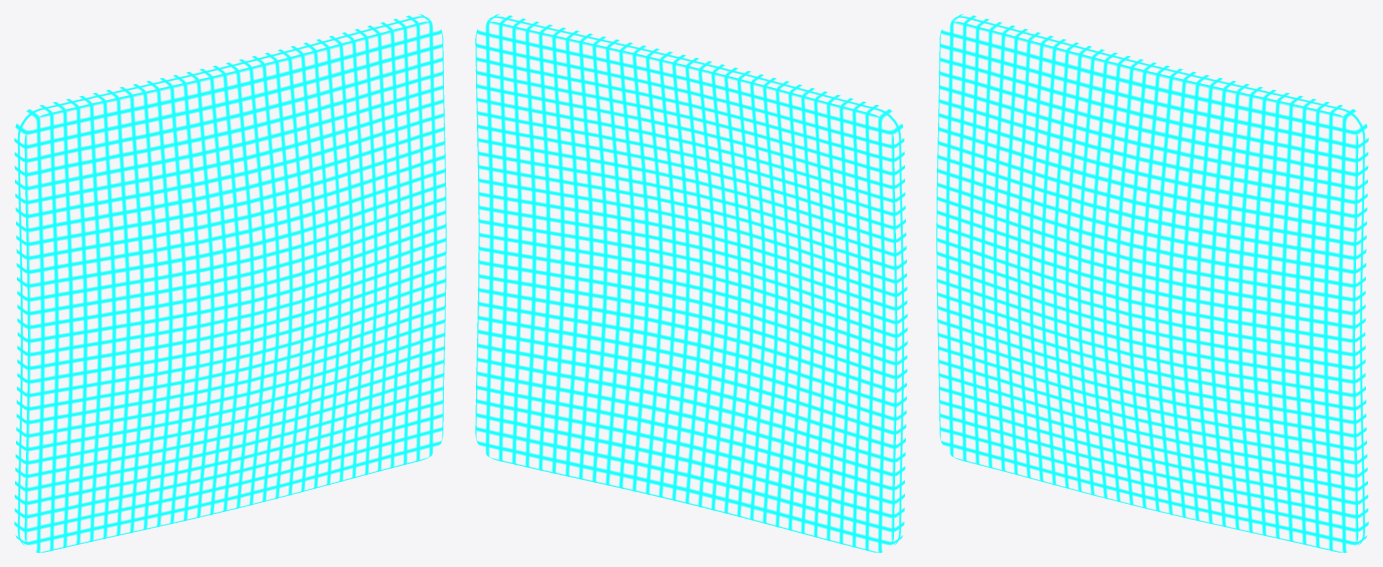
The model's file is shield.glb.
3 views of the same model, side by side, from view 1: azimuth 30°, elevation 25°; view 2: azimuth 150°, elevation 25°; view 3: azimuth 330°, elevation 25° (orthographic).
Parts seen in each view (by area): view 1: Material; view 2: Material; view 3: Material.
Part boxes in pixels (x1=…): Material: x1=14, y1=14, x2=446, y2=552; Material: x1=475, y1=14, x2=907, y2=552; Material: x1=936, y1=14, x2=1368, y2=552.
Bounding box in the file's own units: 1 × 1 × 0.125.
Materials: 1 (1 with a texture image).
